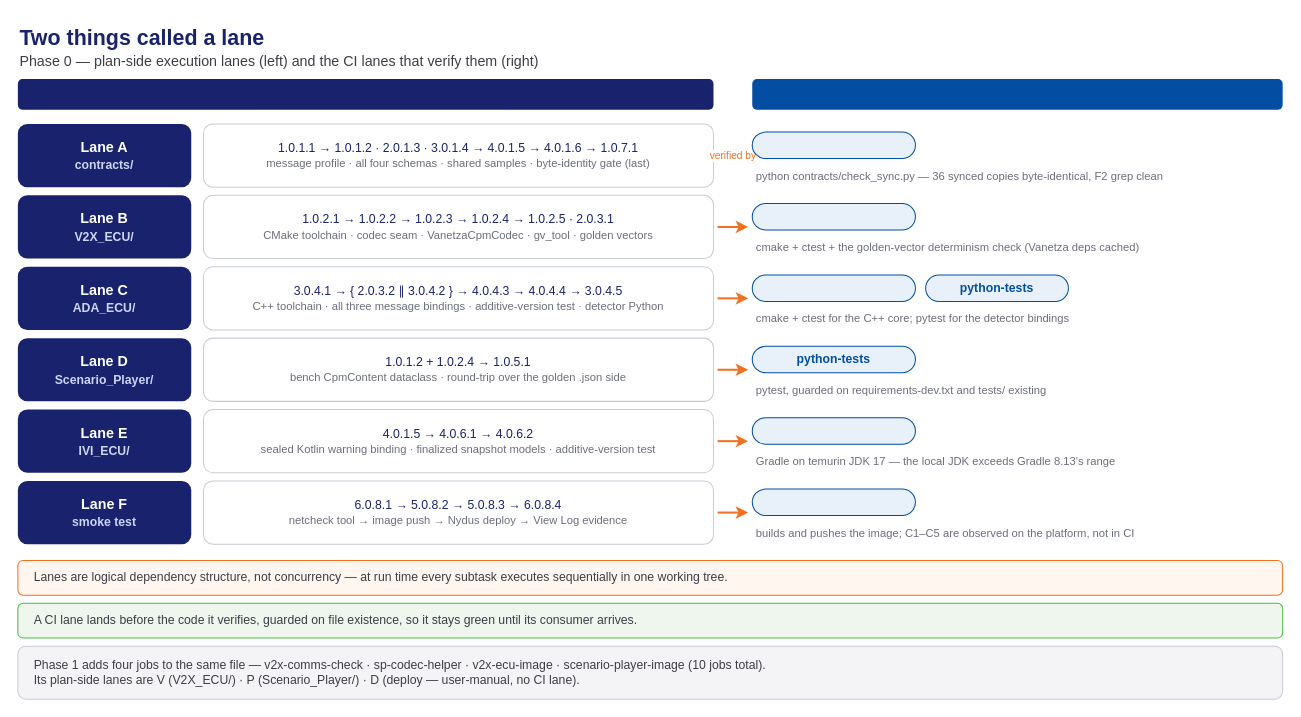
Some shapes in this 1301 by 717 pixel diagram are drawn without their labels. The centre of each missing label's shape, as x and y in pixels:
ada-core-build: the point at 833,287
contracts-gate: the point at 833,145
ivi-unit-tests: the point at 833,430
netcheck-image: the point at 833,502
SENSE 1 · EXECUTION LANE — subtask dependency chain, grouped by target folder: the point at 365,94
SENSE 2 · CI LANE — a job in .github/workflows/phase0-ci.yml: the point at 1017,94
v2x-core-build: the point at 833,216
